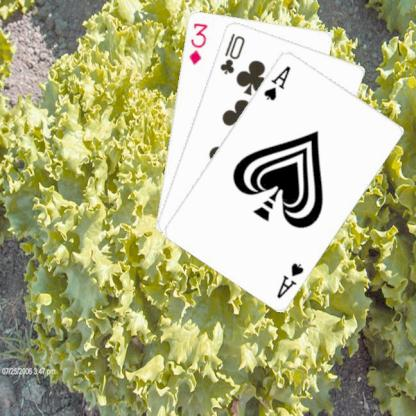10C: (216, 30, 246, 76)
3D: (186, 19, 209, 66)
AS: (274, 259, 306, 300), (260, 62, 292, 102)
